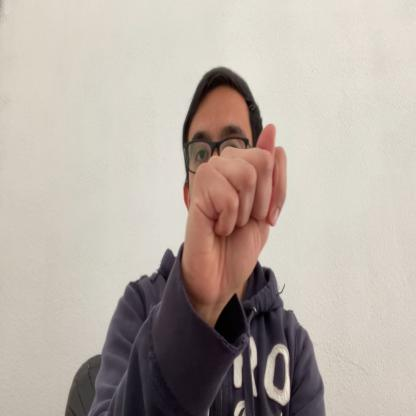T: (184, 122, 286, 289)
